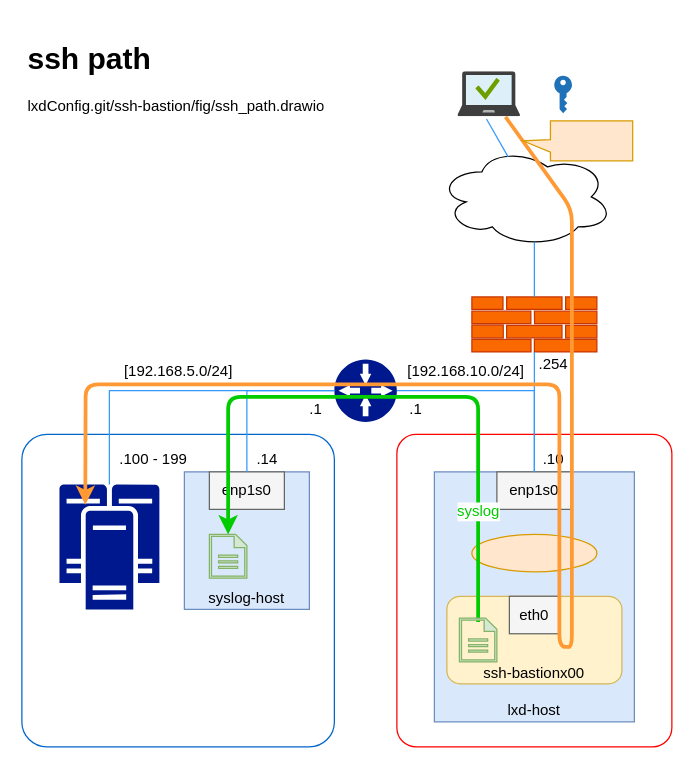
This 694x769 diagram has some shape labels left out. The shapes that lost their labels are listed below. From the top down, each one's centre as x and y in pixels, then its label:
At [577,140]: "Dest Port: 49152".
At [525,196]: "The Internet".
At [534,552]: "lxdbr0".
